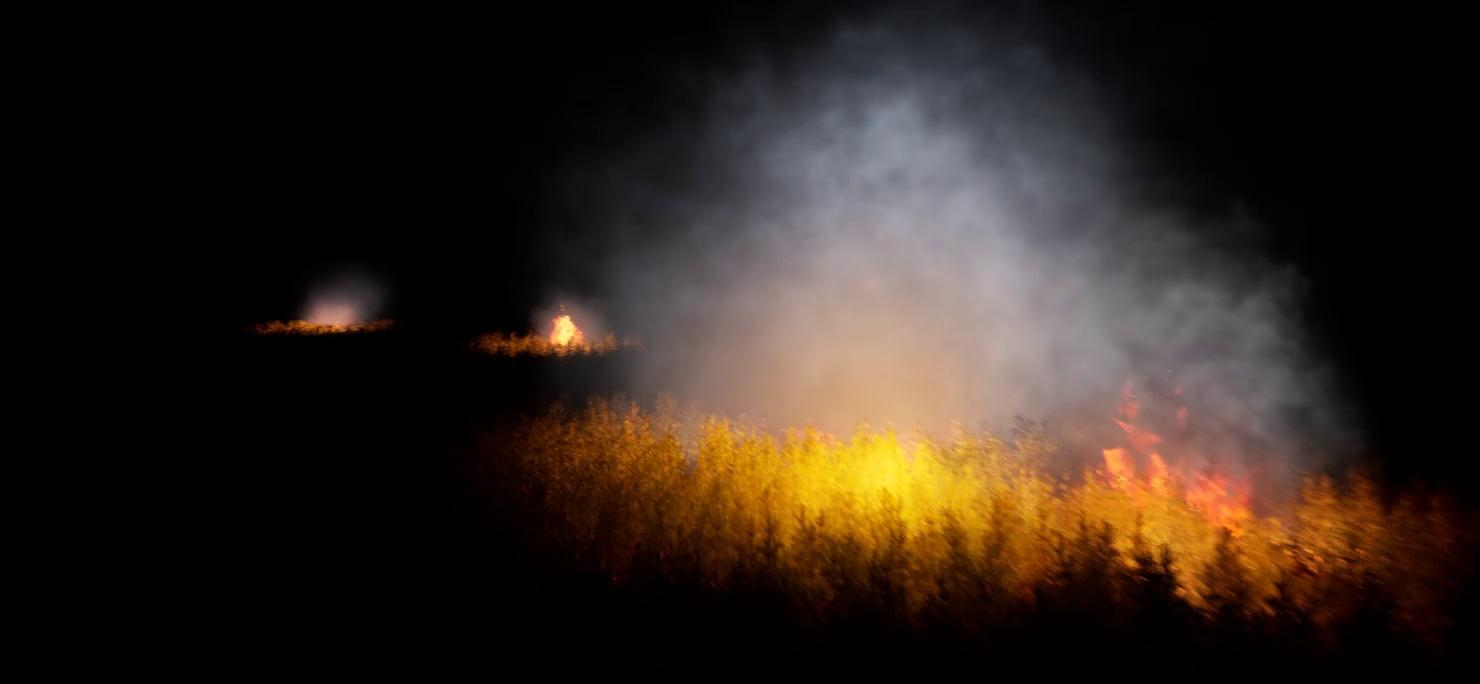fire: (531, 370, 1434, 591), (544, 315, 595, 353)
smoke: (550, 12, 1413, 504), (304, 283, 387, 330)
